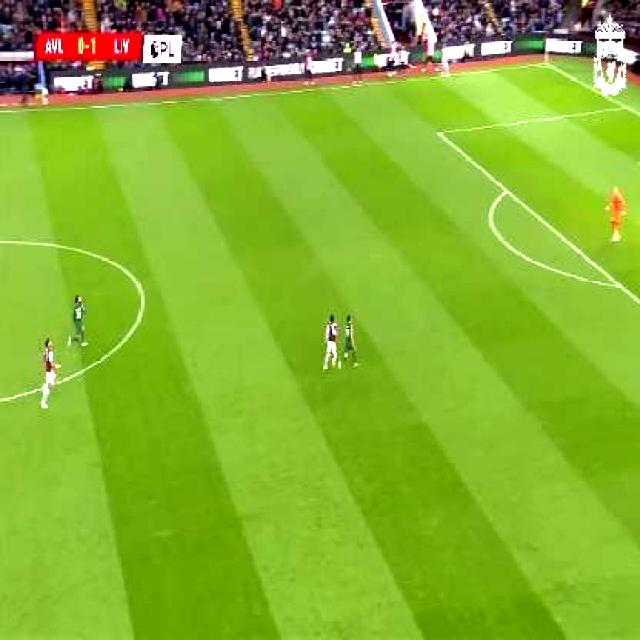bigarea_top_inner: (429, 122, 445, 142)
bigarea_top_outter: (618, 100, 632, 114)
bottom_arc_area_intersection: (611, 274, 626, 294)
corner: (536, 57, 552, 71)
top_arc_area_intersection: (498, 180, 514, 198)
